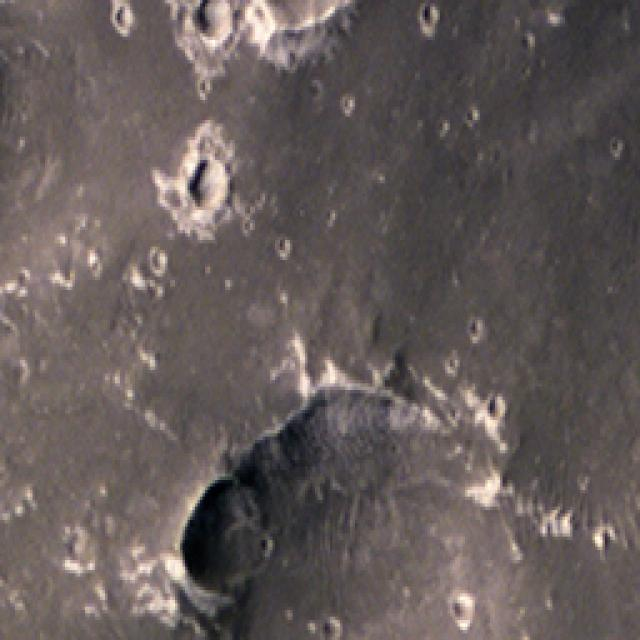Crater: (88, 303, 608, 640), (200, 0, 448, 80)
